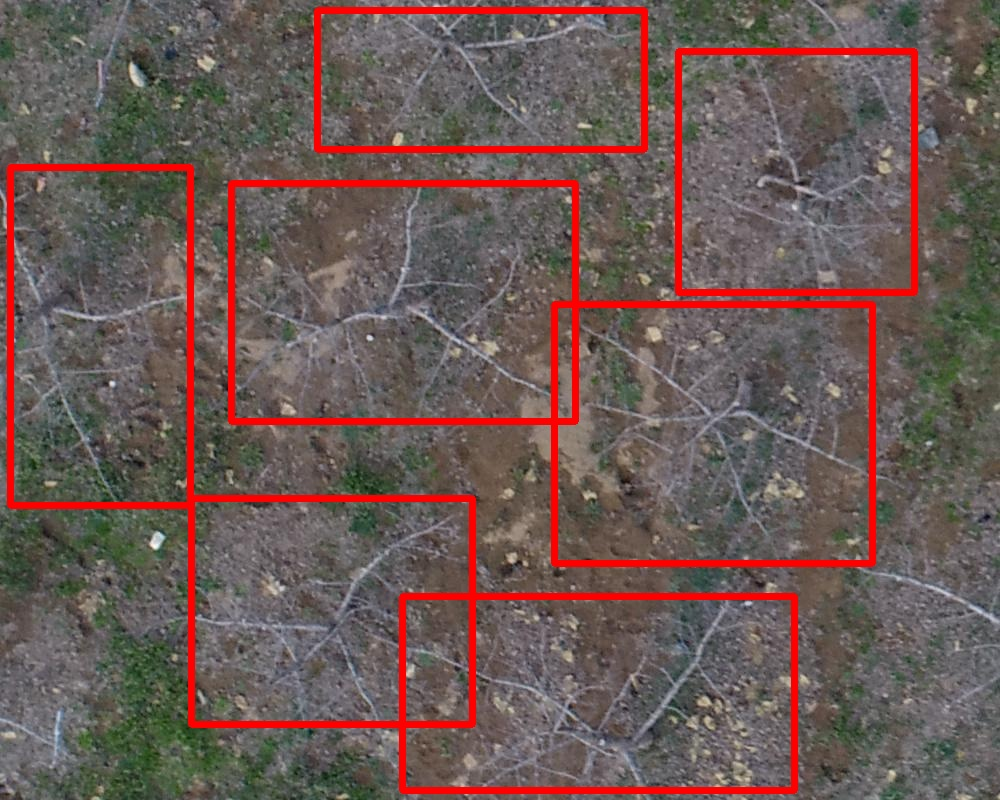apple: (554, 304, 872, 563), (231, 183, 575, 421), (402, 596, 794, 790), (191, 498, 472, 724), (10, 167, 190, 505), (678, 51, 914, 292), (317, 10, 644, 149)
